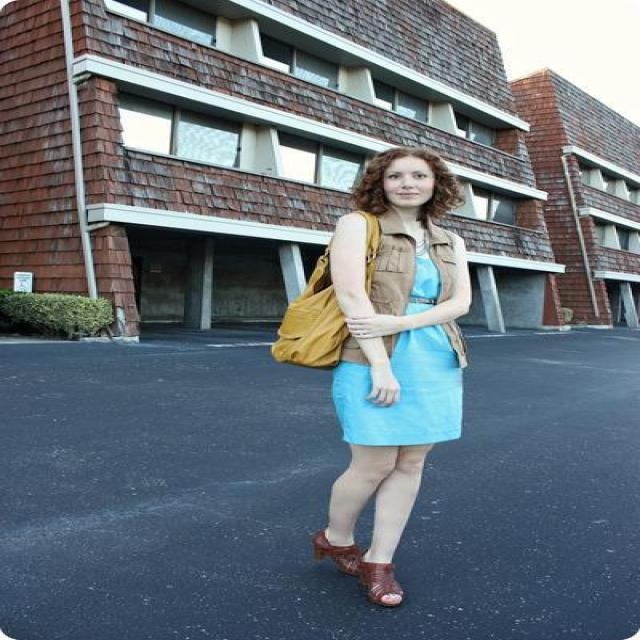bag: (250, 243, 392, 365)
dress: (332, 269, 466, 444)
jacket: (316, 211, 470, 366)
shoe: (314, 536, 402, 596)
